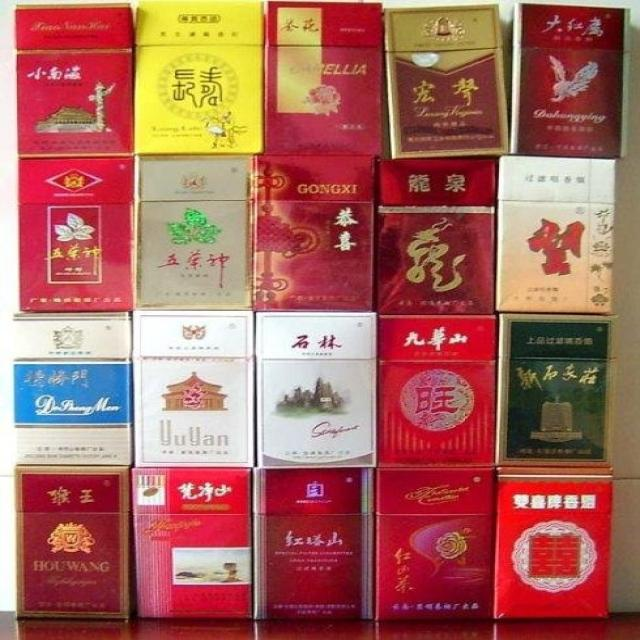box: (383, 3, 509, 160), (135, 1, 263, 155), (252, 154, 375, 311), (376, 156, 498, 314), (509, 3, 630, 160), (376, 468, 498, 623), (256, 312, 376, 468), (136, 154, 255, 311), (495, 314, 616, 468), (133, 311, 253, 466), (496, 158, 615, 314), (377, 315, 499, 466), (265, 1, 383, 156), (132, 468, 253, 619), (16, 3, 135, 156), (253, 468, 372, 620), (14, 312, 132, 465), (16, 466, 132, 620), (20, 156, 135, 311), (495, 468, 613, 619)
